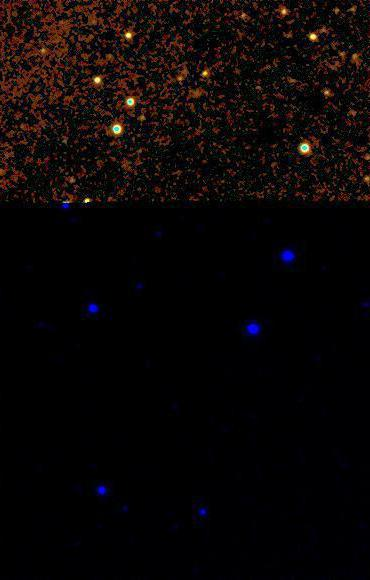star: (71, 186, 101, 216)
